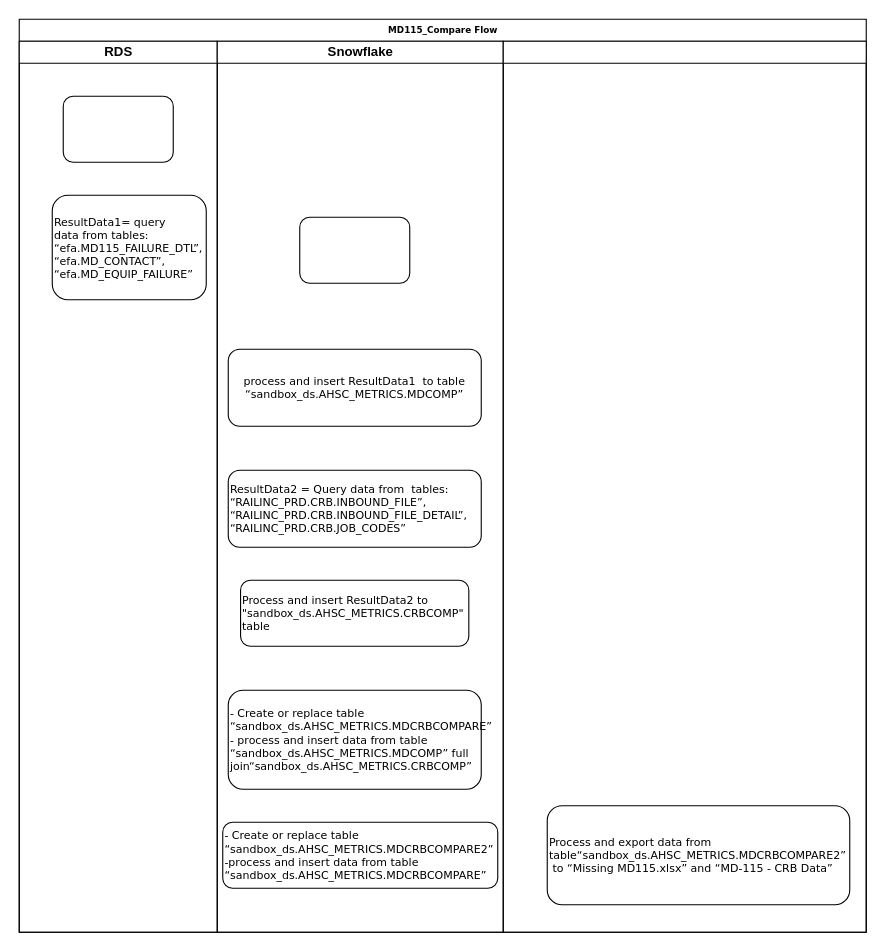
This 886x952 diagram has some shape labels left out. The shapes that lost their labels are listed below. From the top down, each one's box as (x1, y1, x2, y2) in pixels, then its label:
(62, 95, 173, 162): Connect to RDS by connect string
(299, 216, 410, 283): Connect to Snowflake by connect string
(502, 40, 866, 932): Excel
